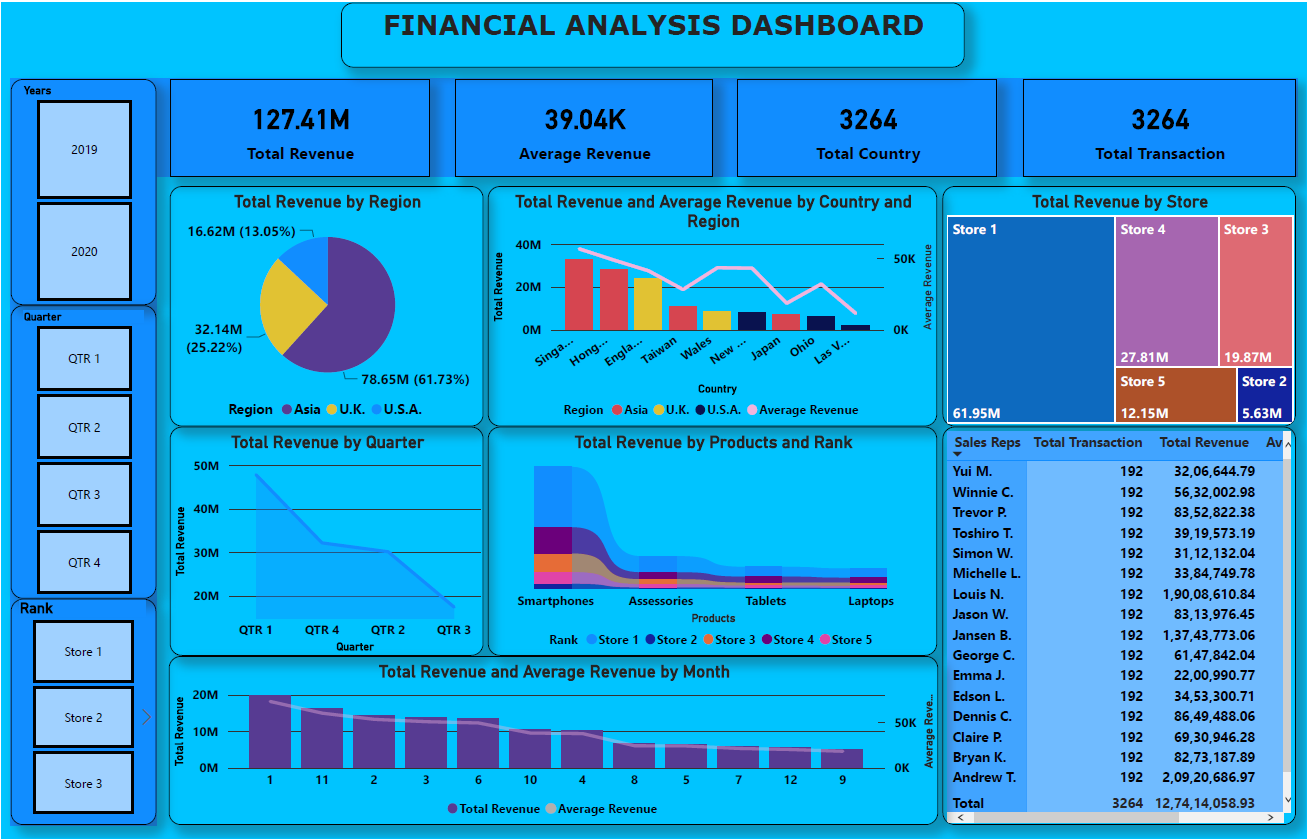

This screenshot's page, from the dashboard's own definition file:
{"tool":"powerbi","page":{"name":"Page 1","canvas":[1280,820],"ordinal":0},"visuals":[{"type":"shape","box":[9.3,74.6,142.6,732.9],"z":0},{"type":"shape","box":[151.9,74.6,1119.3,95.9],"z":1000},{"type":"card","fields":{"Values":["Measures (2).Total Revenue"]},"box":[165.2,74.6,254.5,95.9],"z":2000},{"type":"card","fields":{"Values":["Measures (2).Average Revenue"]},"box":[445.1,74.6,253.2,95.9],"z":3000},{"type":"card","fields":{"Values":["Measures (2).Total Country"]},"box":[722.2,74.6,254.5,95.9],"z":4000},{"type":"card","fields":{"Values":["Measures (2).Total Transaction"]},"box":[1002,74.6,267.8,95.9],"z":5000},{"type":"pieChart","fields":{"Y":["Measures (2).Total Revenue"],"Category":["Sheet1.Region"]},"box":[165.2,179.9,307.8,235.9],"z":6000},{"type":"lineStackedColumnComboChart","fields":{"Category":["Sheet1.Country"],"Y":["Measures (2).Total Revenue"],"Y2":["Measures (2).Average Revenue"],"Series":["Sheet1.Region"]},"box":[477,179.9,441.1,235.9],"z":7000},{"type":"treemap","title":"Total Revenue by Store","fields":{"Group":["Sheet1.Rank"],"Values":["Measures (2).Total Revenue"]},"box":[923.4,179.9,346.4,235.9],"z":8000},{"type":"areaChart","fields":{"Y":["Measures (2).Total Revenue"],"Category":["Sheet1.Quarter"]},"box":[165.2,415.7,307.8,225.2],"z":9000},{"type":"ribbonChart","fields":{"Category":["Sheet1.Products"],"Y":["Measures (2).Total Revenue"],"Series":["Sheet1.Rank"]},"box":[477,415.7,441.1,225.2],"z":10000},{"type":"pivotTable","fields":{"Rows":["Sheet1.Sales Reps"],"Values":["Measures (2).Total Transaction","Measures (2).Total Revenue","Measures (2).Average Revenue"]},"box":[923.4,415.7,346.4,391.8],"z":11000},{"type":"lineStackedColumnComboChart","fields":{"Category":["Sheet1.Month"],"Y":["Measures (2).Total Revenue"],"Y2":["Measures (2).Average Revenue"]},"box":[163.9,640.9,755.5,166.6],"z":12000},{"type":"slicer","fields":{"Values":["Sheet1.Years"]},"box":[9,75,143,222],"z":13000},{"type":"slicer","fields":{"Values":["Sheet1.Quarter"]},"box":[9,297,143,288],"z":14000},{"type":"slicer","fields":{"Values":["Sheet1.Rank"]},"box":[9,585,143,222],"z":15000},{"type":"textbox","box":[333.1,0,611.6,64],"z":16000}]}

Visuals, with their boxes in screenshot pixels (x1, y1, x2, y2), scaled from the page's 1280x820 canvas onto the 1307x839 screenshot:
shape: Rect(9, 76, 155, 826)
shape: Rect(155, 76, 1298, 174)
card - Measures (2).Total Revenue: Rect(169, 76, 429, 174)
card - Measures (2).Average Revenue: Rect(454, 76, 713, 174)
card - Measures (2).Total Country: Rect(737, 76, 997, 174)
card - Measures (2).Total Transaction: Rect(1023, 76, 1297, 174)
pieChart - Measures (2).Total Revenue x Sheet1.Region: Rect(169, 184, 483, 425)
lineStackedColumnComboChart - Sheet1.Country x Measures (2).Total Revenue: Rect(487, 184, 937, 425)
"Total Revenue by Store" treemap: Rect(943, 184, 1297, 425)
areaChart - Measures (2).Total Revenue x Sheet1.Quarter: Rect(169, 425, 483, 656)
ribbonChart - Sheet1.Products x Measures (2).Total Revenue: Rect(487, 425, 937, 656)
pivotTable - Sheet1.Sales Reps x Measures (2).Total Transaction: Rect(943, 425, 1297, 826)
lineStackedColumnComboChart - Sheet1.Month x Measures (2).Total Revenue: Rect(167, 656, 939, 826)
slicer - Sheet1.Years: Rect(9, 77, 155, 304)
slicer - Sheet1.Quarter: Rect(9, 304, 155, 599)
slicer - Sheet1.Rank: Rect(9, 599, 155, 826)
textbox: Rect(340, 0, 965, 65)
